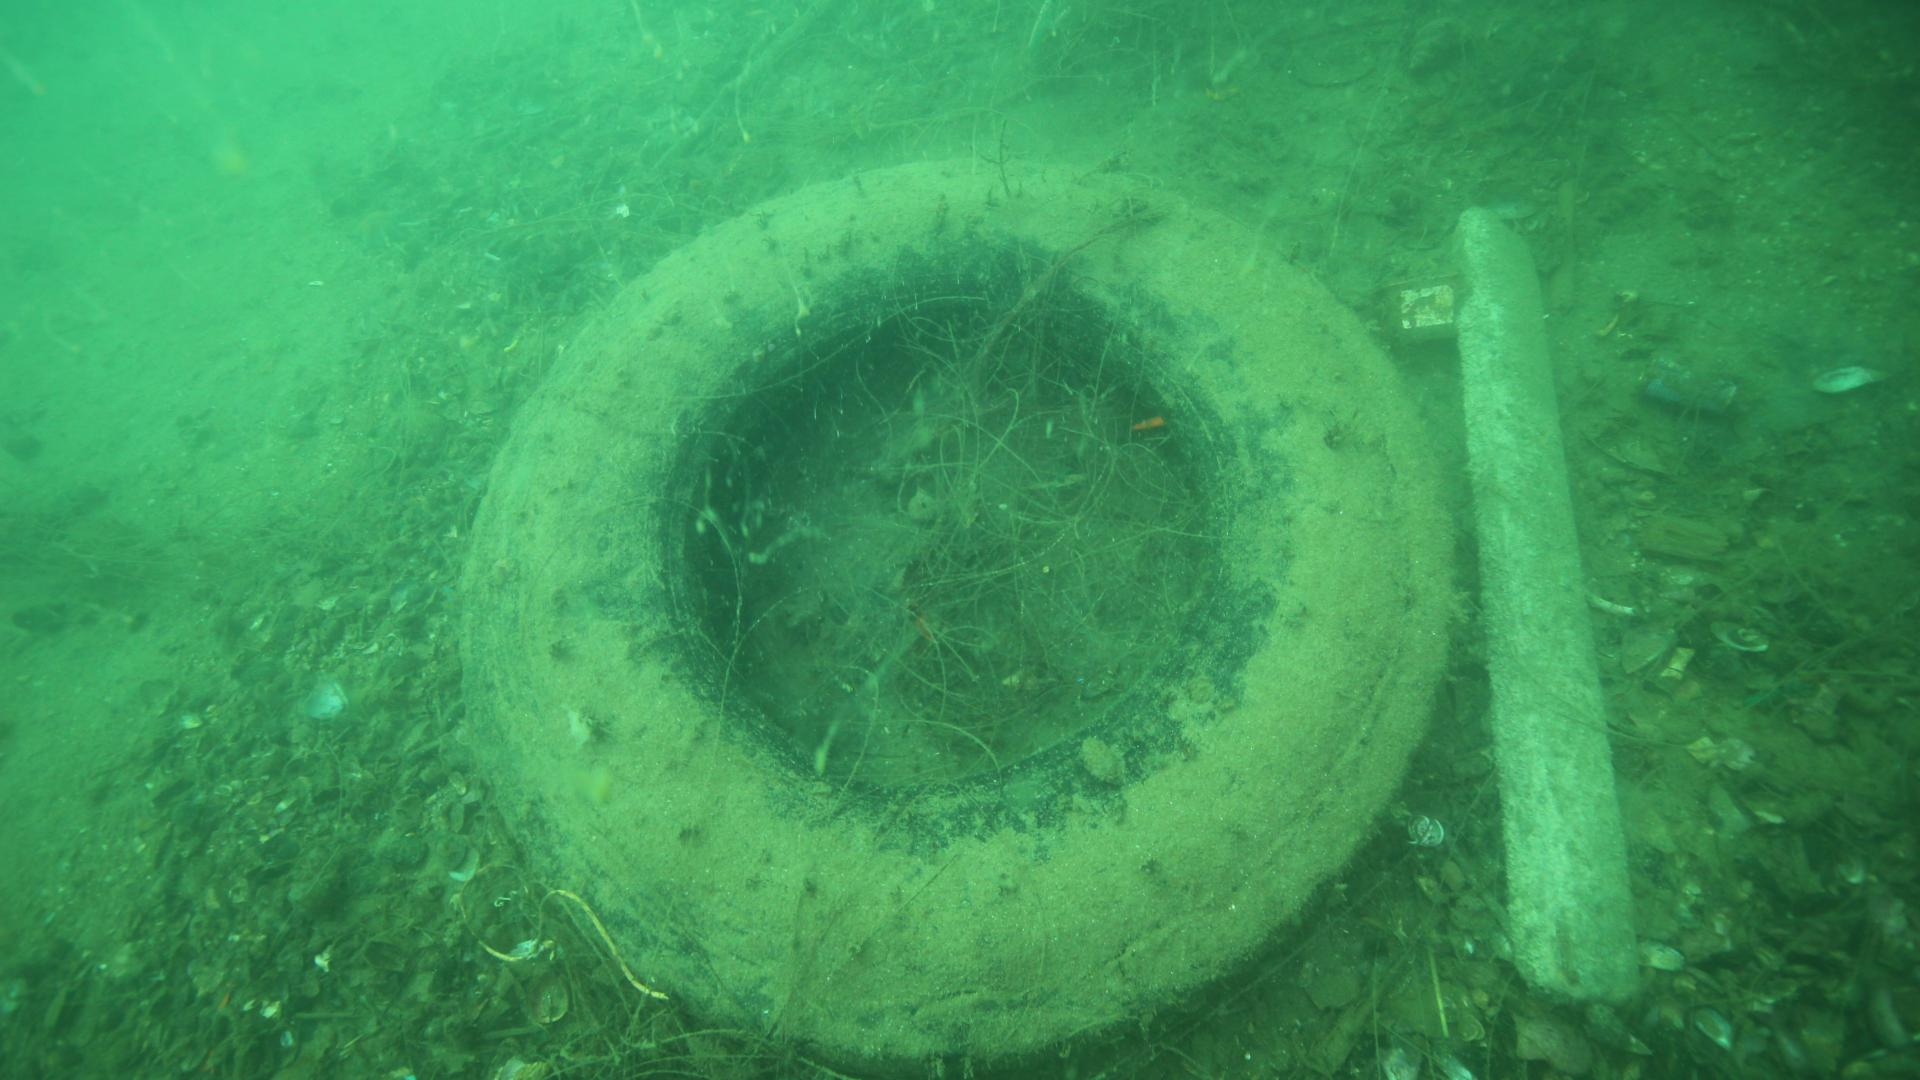tire: (462, 142, 1458, 1077)
